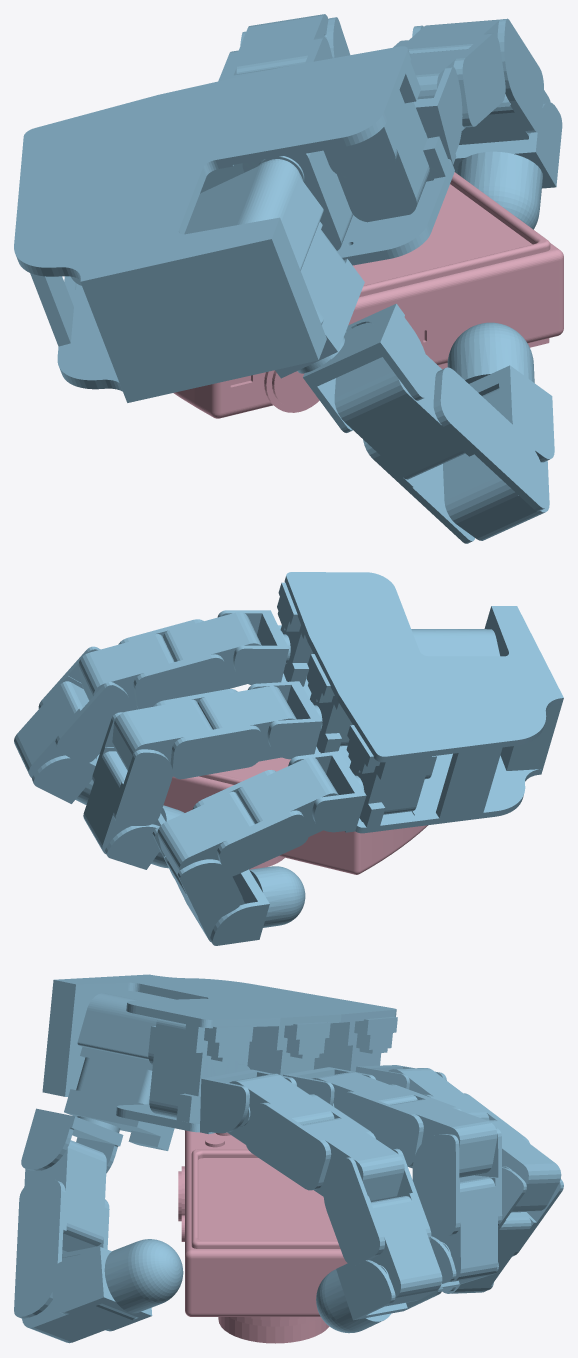
3 views of the same model, one above another, from view 1: azimuth 30°, elevation 25°; view 2: azimuth 150°, elevation 25°; view 3: azimuth 270°, elevation 25° (orthographic). The views are drawn at different scales.
Parts seen in each view (by area): view 1: world; view 2: world; view 3: world.
Boxes of the visible parts, x1,y1,x2,y2 form: world: [14, 14, 563, 543]; world: [14, 572, 563, 945]; world: [14, 974, 563, 1343].
Size of the model in its own units: 0.2077 by 0.1295 by 0.1971.
